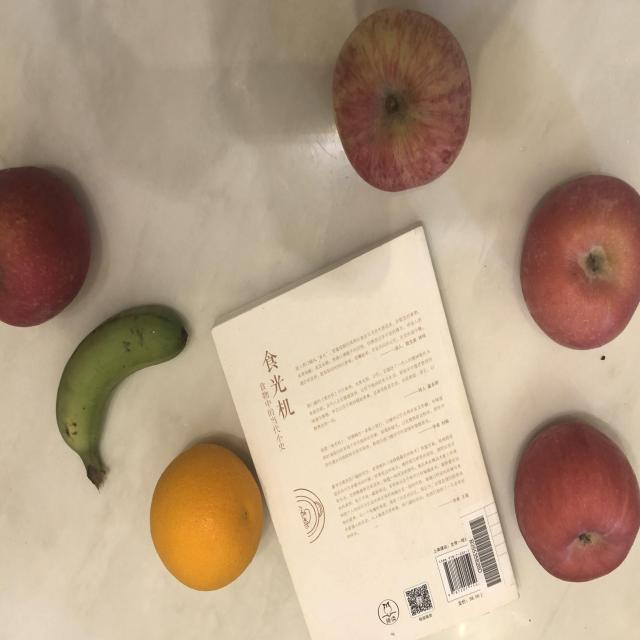apple: (312, 0, 486, 198), (522, 154, 640, 352), (513, 414, 640, 592), (0, 153, 91, 331)
banana: (40, 284, 196, 506)
orange: (143, 438, 272, 594)
